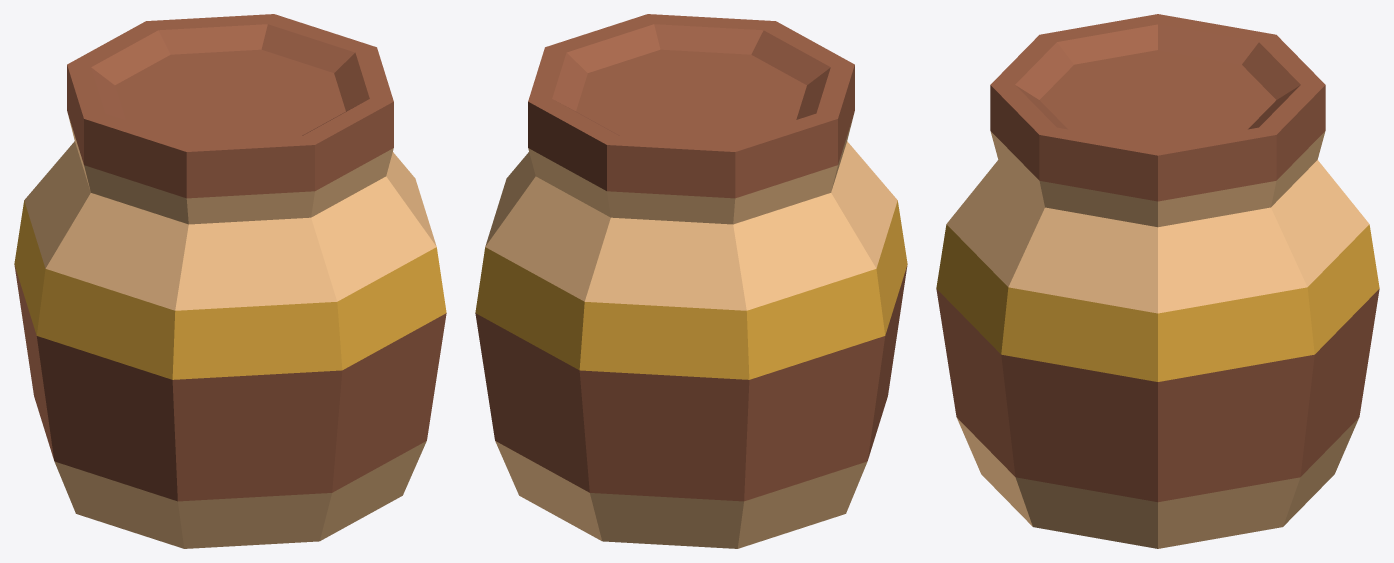
Rendered from honey.obj.
The picture shows the model from 3 angles, left to right: view 1: azimuth 30°, elevation 25°; view 2: azimuth 150°, elevation 25°; view 3: azimuth 270°, elevation 25°; orthographic projection.
Visible parts, largest first — view 1: honey; view 2: honey; view 3: honey.
Part boxes in pixels (x1,y1,x2,y2): honey: (14,14,446,548); honey: (475,14,907,548); honey: (936,14,1379,548).
Bounding box in the file's own units: 0.326 × 0.316 × 0.326.
